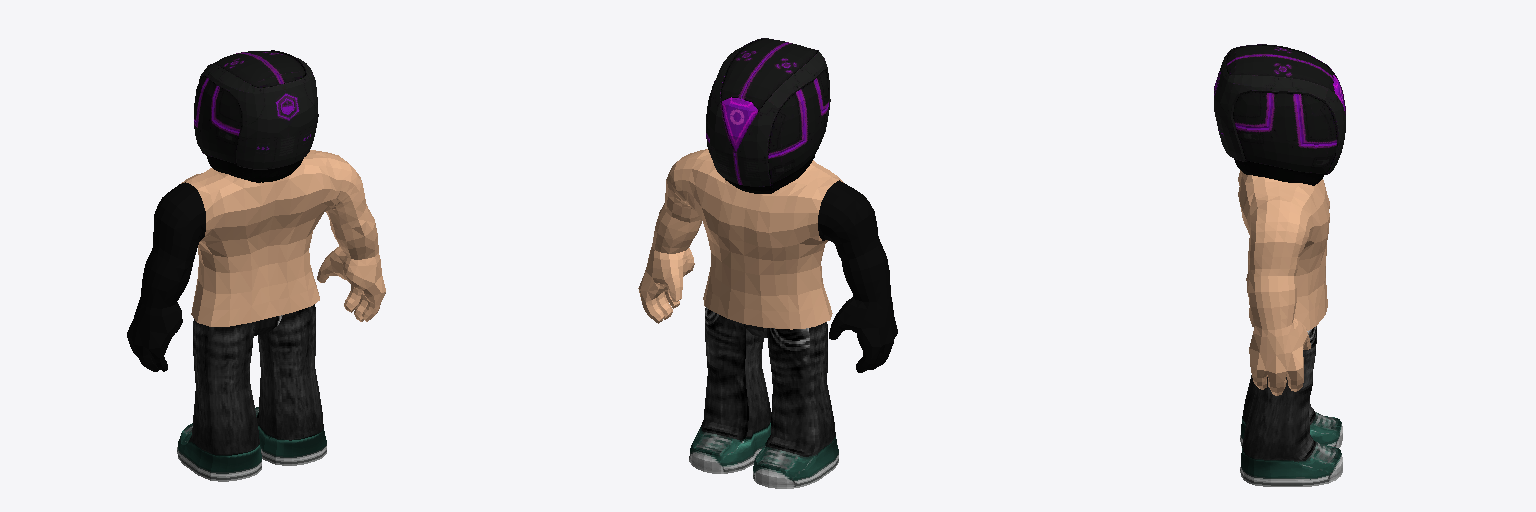
3 views of the same model, side by side, from view 1: azimuth 30°, elevation 25°; view 2: azimuth 150°, elevation 25°; view 3: azimuth 270°, elevation 25° (orthographic).
Visible parts, largest first — view 1: 1, Handle1, 4, 2, 5, 3; view 2: 1, Handle1, 4, 2, 5, 3; view 3: Handle1, 3, 2, 1, 4.
Part boxes in pixels (bbox=[...]): 1: bbox=[181, 150, 335, 335]; Handle1: bbox=[194, 50, 318, 182]; 4: bbox=[177, 319, 261, 481]; 2: bbox=[255, 304, 326, 465]; 5: bbox=[127, 182, 205, 371]; 3: bbox=[317, 151, 385, 321]; 1: bbox=[687, 149, 843, 337]; Handle1: bbox=[706, 38, 830, 193]; 4: bbox=[753, 322, 838, 488]; 2: bbox=[689, 307, 770, 473]; 5: bbox=[818, 180, 897, 372]; 3: bbox=[638, 149, 706, 323]; Handle1: bbox=[1214, 44, 1345, 185]; 3: bbox=[1246, 200, 1310, 395]; 2: bbox=[1240, 326, 1342, 486]; 1: bbox=[1238, 170, 1329, 330]; 4: bbox=[1240, 375, 1342, 447].
Size of the model in its own units: 3.46 by 5.35 by 1.6.
Materials: 2 (2 with a texture image).